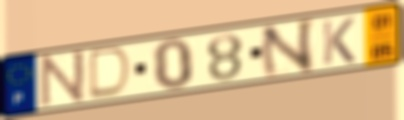0: (147, 37, 197, 92)
8: (203, 31, 245, 83)
D: (86, 45, 135, 102)
K: (320, 16, 357, 67)
N: (258, 16, 317, 81), (38, 48, 88, 110)
